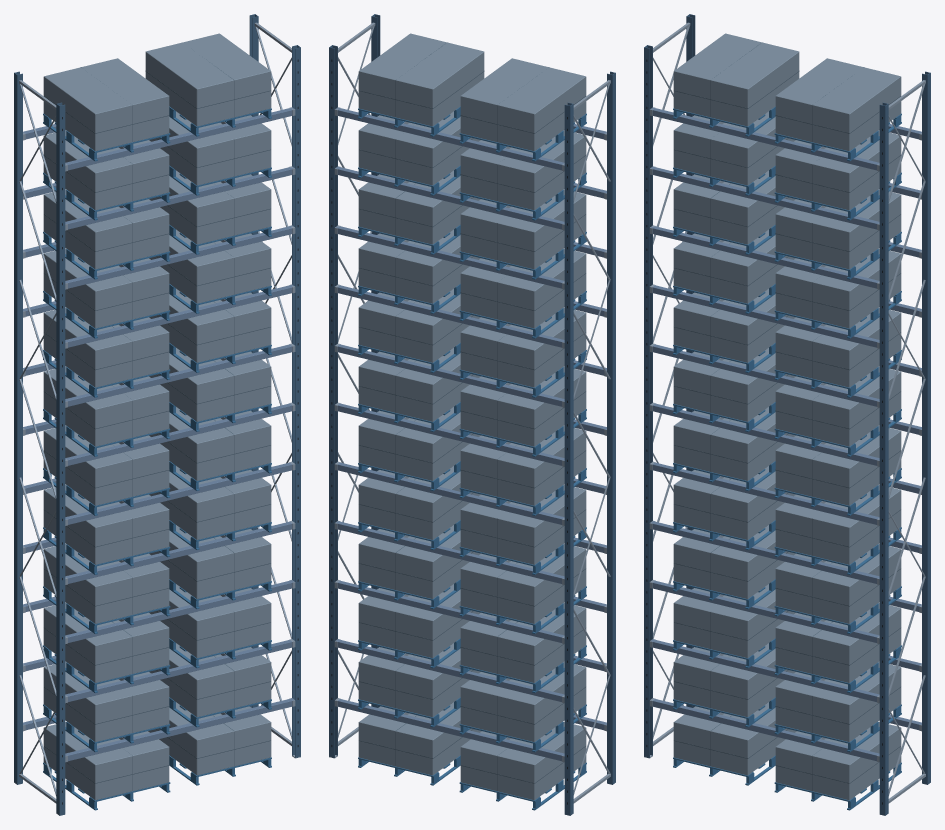
The model's file is SM_GHS_CADRack_B_W32553.fbx.
3 views of the same model, side by side, from view 1: azimuth 30°, elevation 25°; view 2: azimuth 150°, elevation 25°; view 3: azimuth 330°, elevation 25° (orthographic).
Parts seen in each view (by area): view 1: SM_GHS_CADRack_B_W32553; view 2: SM_GHS_CADRack_B_W32553; view 3: SM_GHS_CADRack_B_W32553.
Part boxes in pixels (x1,y1,x2,y2): SM_GHS_CADRack_B_W32553: (14, 14, 300, 815); SM_GHS_CADRack_B_W32553: (329, 14, 615, 815); SM_GHS_CADRack_B_W32553: (644, 14, 930, 815).
Bounding box in the file's own units: 326 × 122 × 915.
